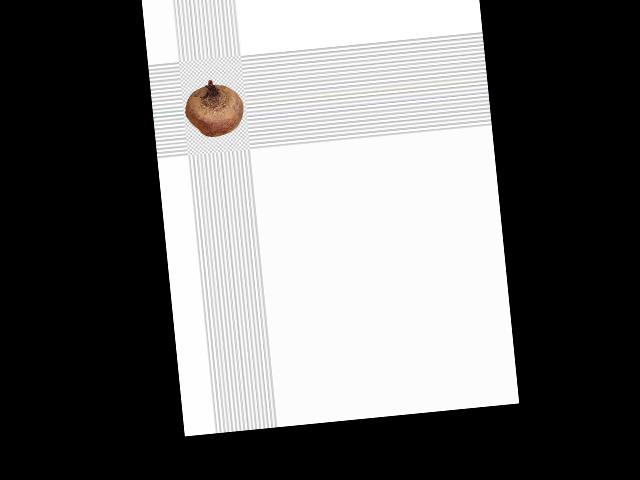beet: (182, 76, 245, 138)
